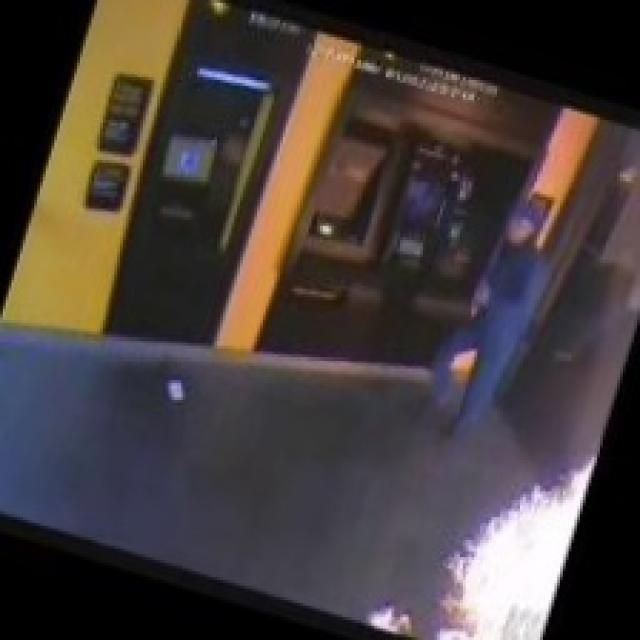fire: (410, 417, 613, 640)
